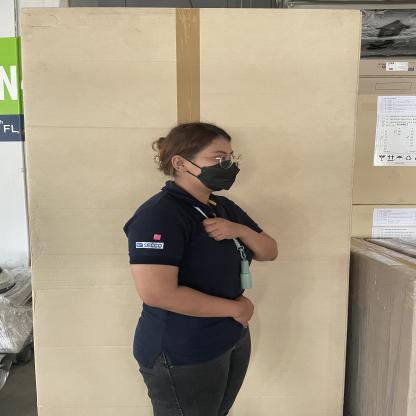Sadness: (189, 204, 289, 274)
